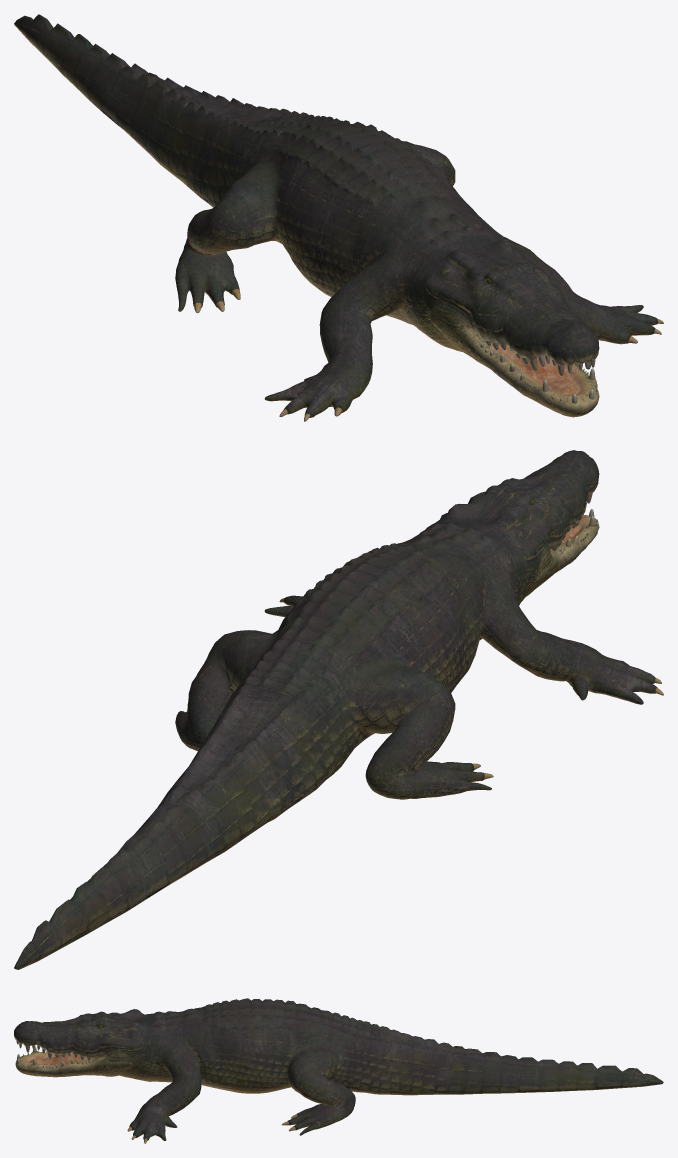
The model's file is crocodile.glb.
The picture shows the model from 3 angles, top to bottom: view 1: azimuth 30°, elevation 25°; view 2: azimuth 150°, elevation 25°; view 3: azimuth 270°, elevation 25°; orthographic projection. The views are drawn at different scales.
Visible parts, largest first — view 1: Crocodile; view 2: Crocodile; view 3: Crocodile.
Part boxes in pixels (bbox=[...]): Crocodile: bbox=[14, 14, 663, 421]; Crocodile: bbox=[14, 450, 663, 969]; Crocodile: bbox=[14, 998, 663, 1143].
Size of the model in its own units: 29.13 by 11.33 by 75.12.
Materials: 1 (1 with a texture image).
